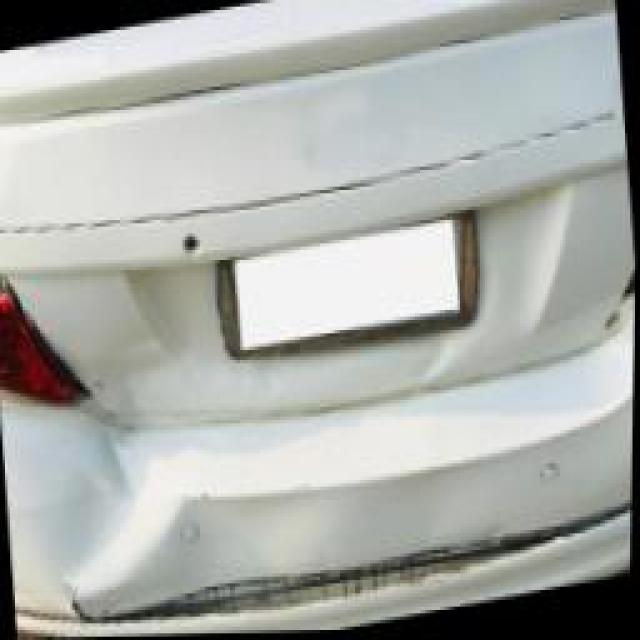Bumper: (12, 340, 638, 640)
